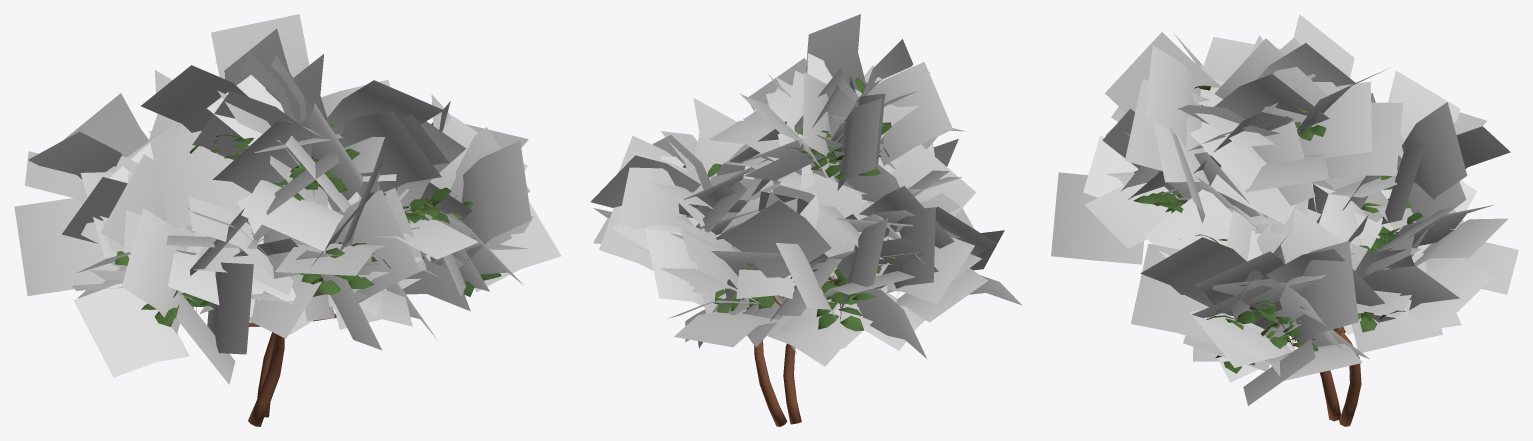
The model's file is Arbousier_Jeune_LOD0.fbx.
The picture shows the model from 3 angles, left to right: view 1: azimuth 30°, elevation 25°; view 2: azimuth 150°, elevation 25°; view 3: azimuth 270°, elevation 25°; orthographic projection. The views are drawn at different scales.
Parts seen in each view (by area): view 1: Arbousier_Jeune; view 2: Arbousier_Jeune; view 3: Arbousier_Jeune.
Part boxes in pixels (x1=…): Arbousier_Jeune: x1=14, y1=14, x2=561, y2=426; Arbousier_Jeune: x1=590, y1=14, x2=1022, y2=426; Arbousier_Jeune: x1=1051, y1=14, x2=1518, y2=426.
Bounding box in the file's own units: 277 × 231 × 255.
